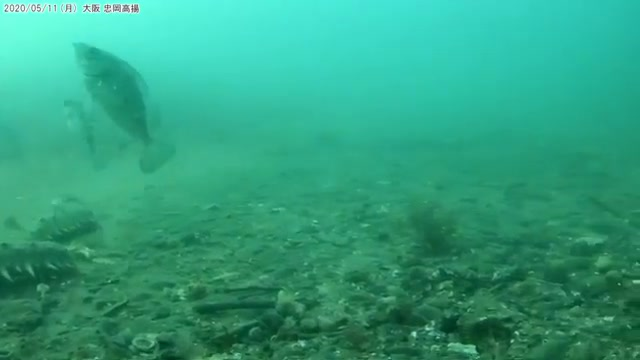smallfish: (68, 38, 177, 175)
